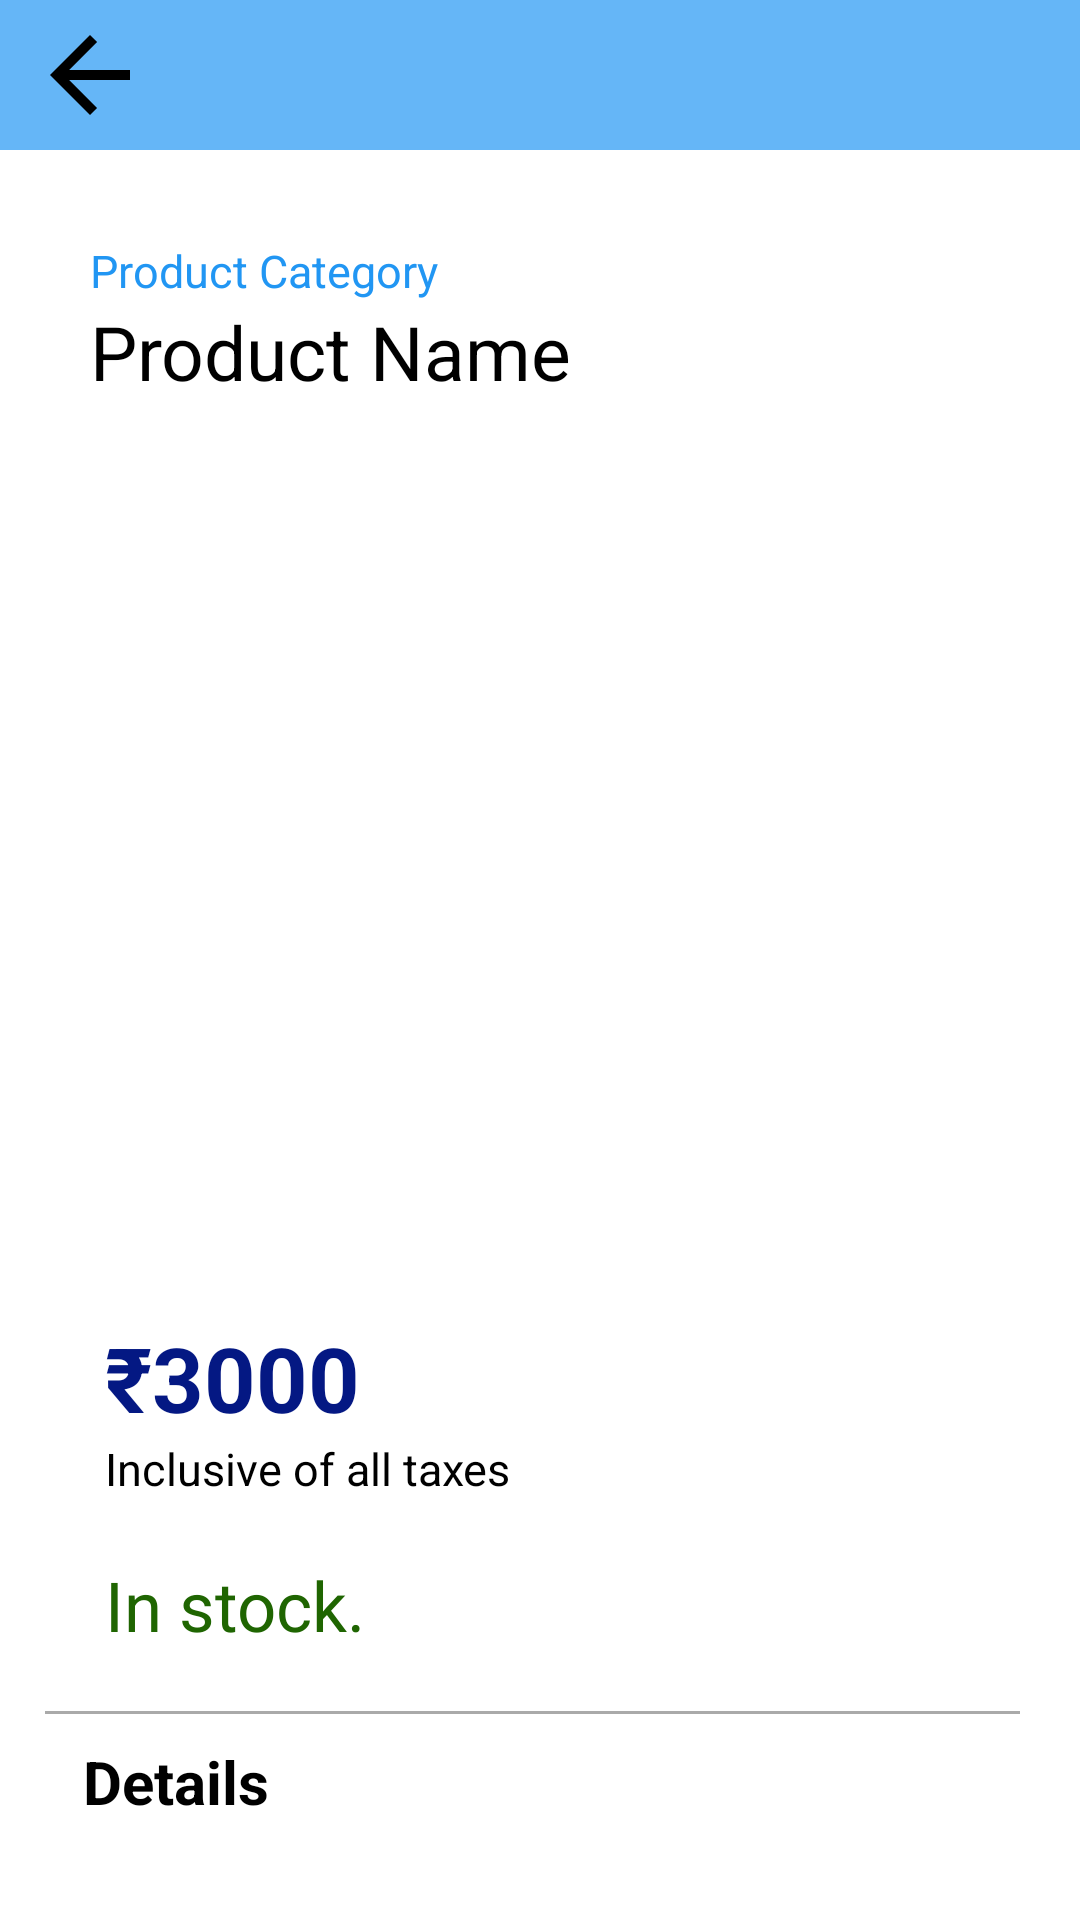

Locate icon controls on the screen. Image size 1080 × 1920, boxes as (x1, y1, x2, y2).
back: (50, 35, 130, 115)
